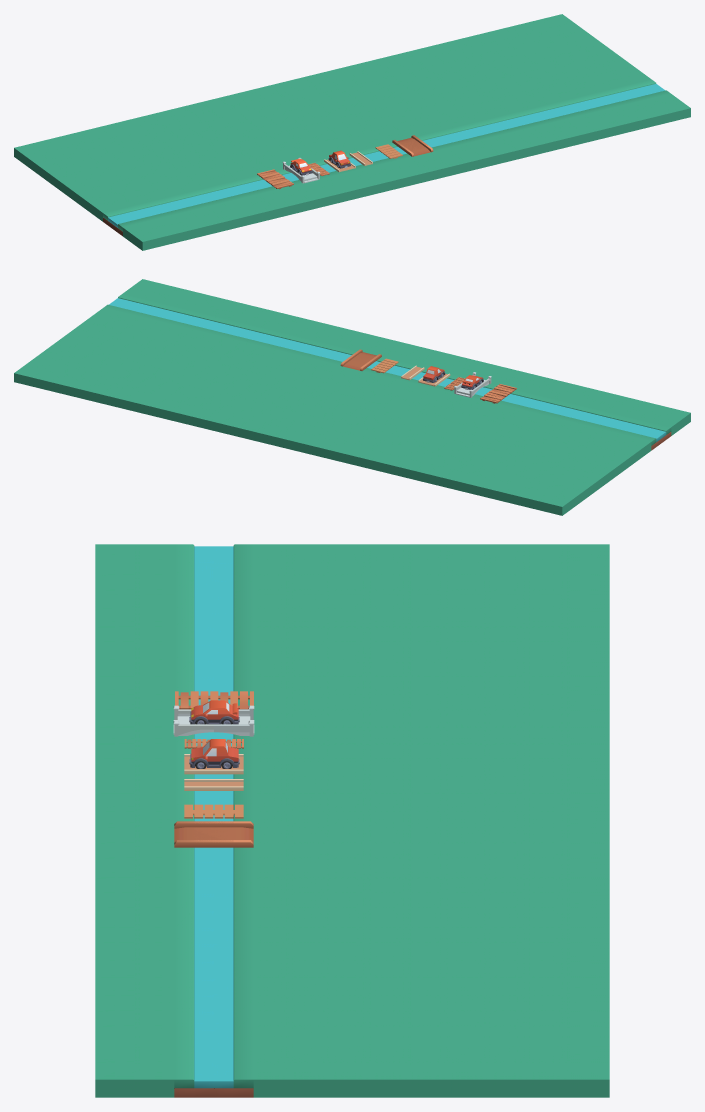
Rendered from world-transformed.glb.
3 renders of one model, top to bottom at view 1: azimuth 30°, elevation 25°; view 2: azimuth 150°, elevation 25°; view 3: azimuth 270°, elevation 25°, orthographic. The views are drawn at different scales.
Parts seen in each view (by area): view 1: square_forest, roof-flat-border-straight, body, floor-old; view 2: square_forest, roof-flat-border-straight, floor-old, body; view 3: square_forest, roof-flat-border-straight, body, floor-old, bridge_side_stoneRound.
Boxes of the visible parts, bbox=[...] form: square_forest: bbox=[14, 14, 690, 250]; roof-flat-border-straight: bbox=[324, 135, 433, 172]; body: bbox=[290, 150, 350, 175]; floor-old: bbox=[257, 162, 329, 189]; square_forest: bbox=[14, 279, 690, 515]; roof-flat-border-straight: bbox=[340, 349, 450, 386]; floor-old: bbox=[444, 377, 516, 403]; body: bbox=[423, 366, 483, 389]; square_forest: bbox=[95, 544, 609, 1097]; roof-flat-border-straight: bbox=[174, 754, 253, 847]; body: bbox=[189, 700, 239, 768]; floor-old: bbox=[175, 691, 253, 748]; bridge_side_stoneRound: bbox=[173, 705, 254, 736].
Size of the model in its own units: 64 by 2.35 by 26.
5 materials, 5 textured.
